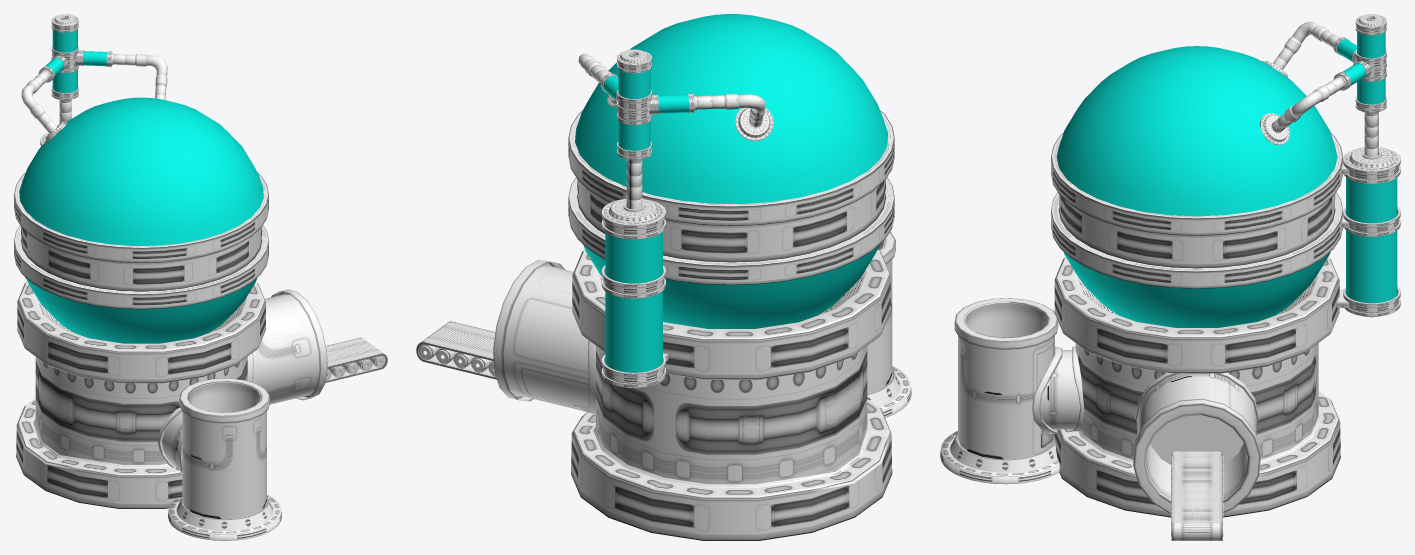
File: Washer V3.FBX
3 views of the same model, side by side, from view 1: azimuth 30°, elevation 25°; view 2: azimuth 150°, elevation 25°; view 3: azimuth 270°, elevation 25° (orthographic). The views are drawn at different scales.
Parts seen in each view (by area): view 1: Washer_Body, Washer_Glass; view 2: Washer_Body, Washer_Glass; view 3: Washer_Body, Washer_Glass.
Part boxes in pixels (box(x1,y1,x2,y2)): Washer_Body: box(14, 14, 387, 540); Washer_Glass: box(19, 97, 263, 343); Washer_Body: box(416, 49, 911, 540); Washer_Glass: box(575, 14, 888, 328); Washer_Body: box(940, 14, 1400, 540); Washer_Glass: box(1056, 46, 1337, 327).
Size of the model in its own units: 202 by 222 by 203.
